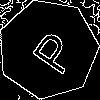P: (23, 24, 80, 78)
